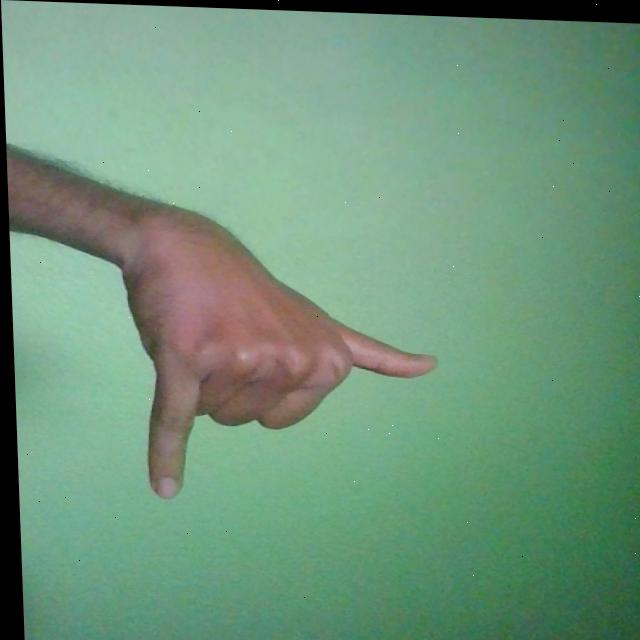Call Me: (113, 198, 442, 506)
